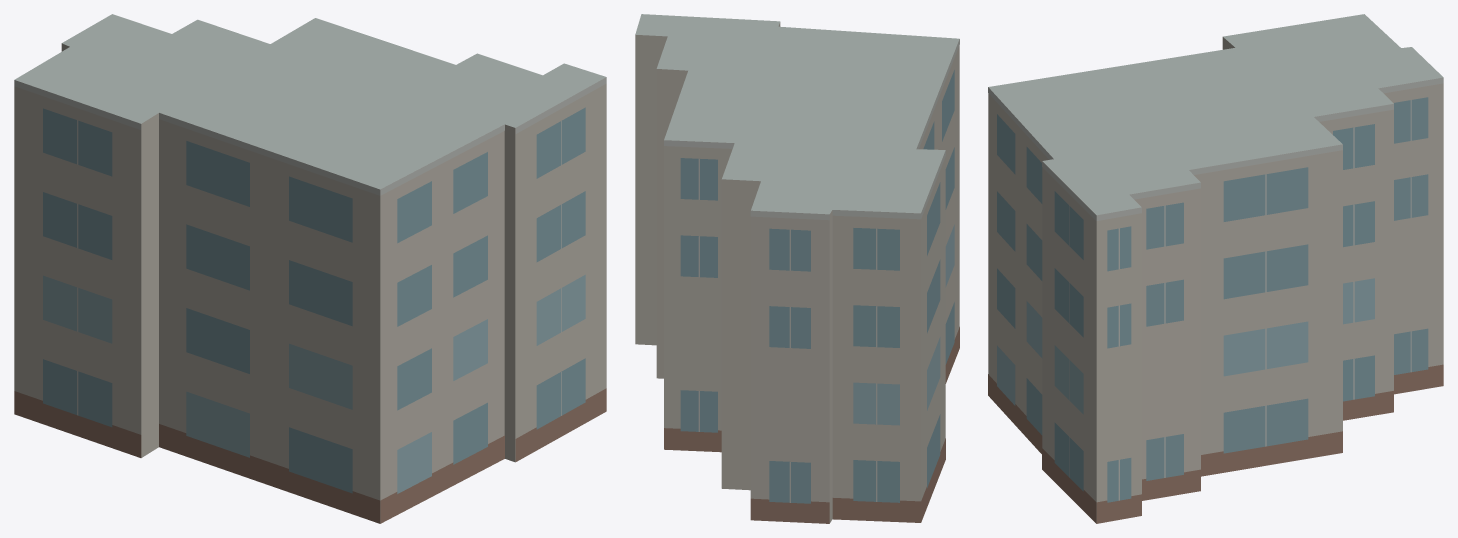
File: survey-upis-32705490.glb
The picture shows the model from 3 angles, left to right: view 1: azimuth 30°, elevation 25°; view 2: azimuth 150°, elevation 25°; view 3: azimuth 270°, elevation 25°; orthographic projection. The views are drawn at different scales.
Visible parts, largest first — view 1: survey-upis-32705490.tmp; view 2: survey-upis-32705490.tmp; view 3: survey-upis-32705490.tmp.
Part boxes in pixels (x1,y1,x2,y2): survey-upis-32705490.tmp: (14, 14, 606, 523); survey-upis-32705490.tmp: (635, 14, 959, 523); survey-upis-32705490.tmp: (988, 14, 1443, 523).
Size of the model in its own units: 17.95 by 12.82 by 17.16.
